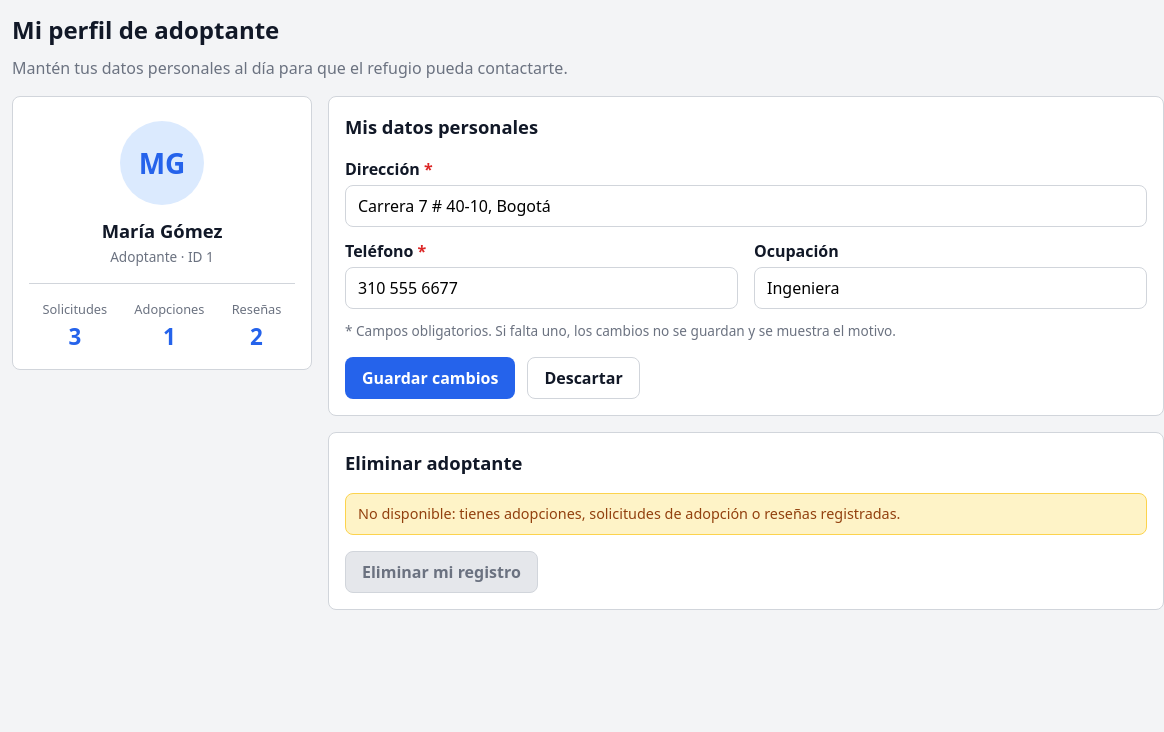
ProfilePage (HU12) › shows the reason of the back when the address is missing
Step 1. Clear the field labelled "Dirección *" → (746, 206), box [345,185,1147,227]
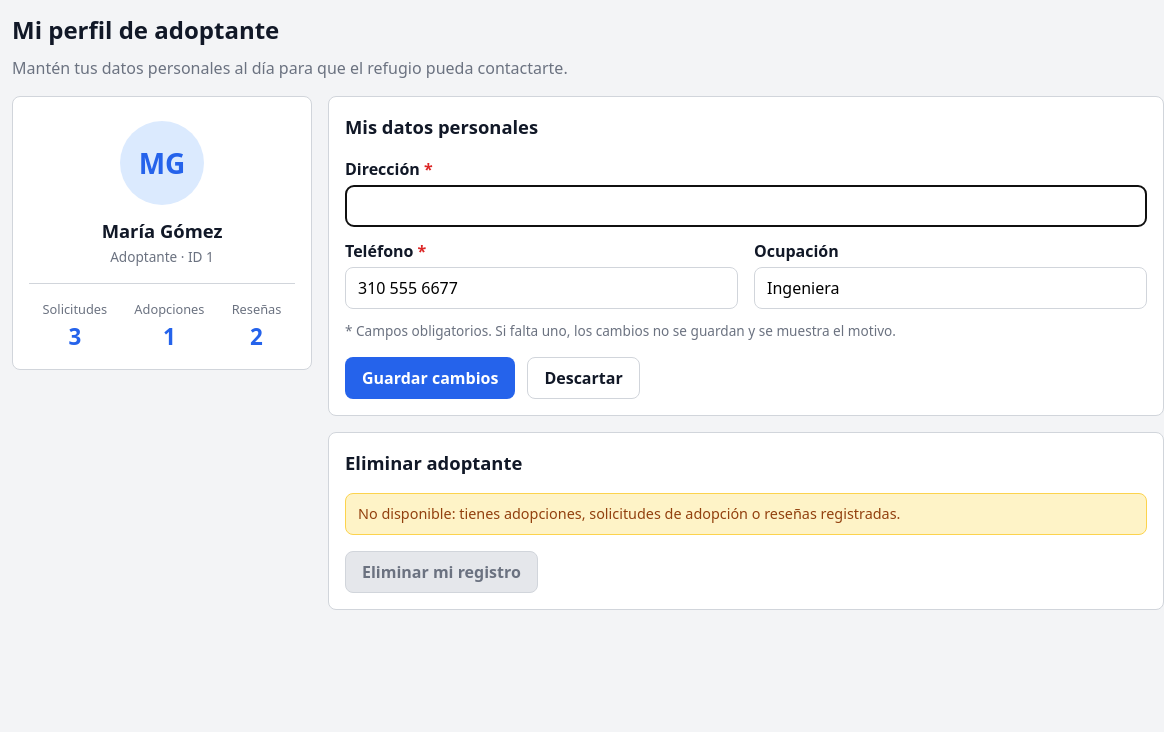
Step 2. Click the button "Guardar cambios" → click(430, 378), box [345,357,515,399]
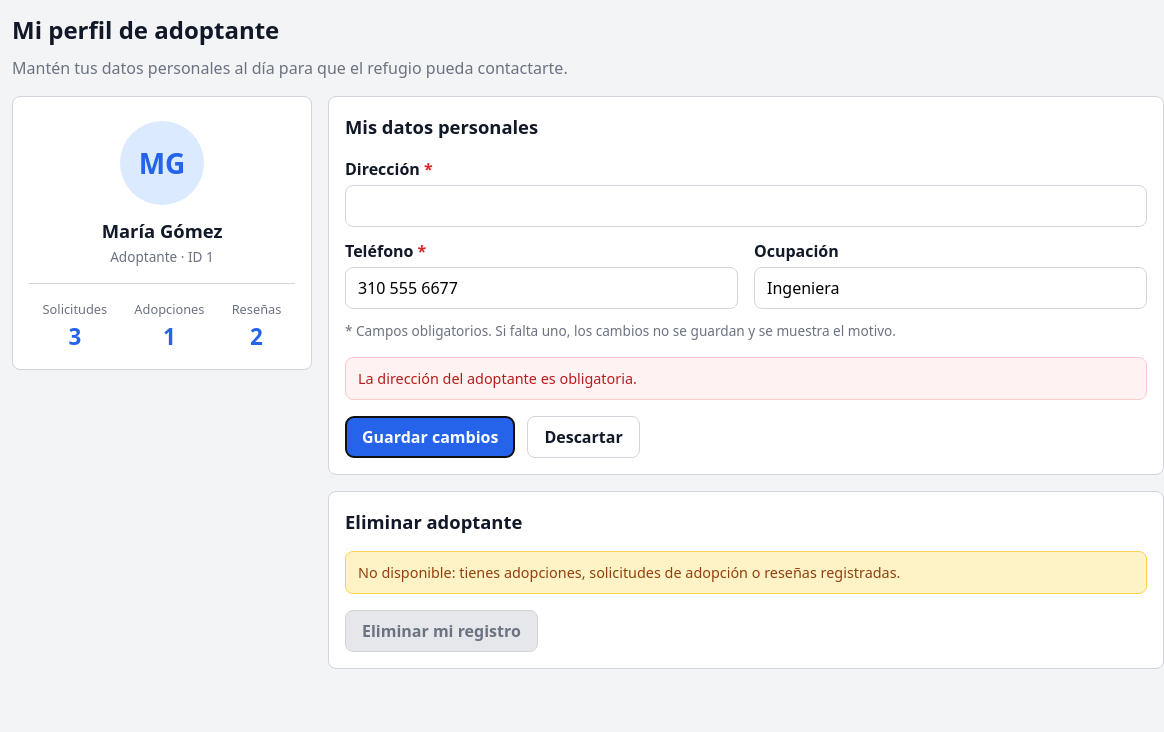
Result: the message reads "La dirección del adoptante es obligatoria." at [358,369,637,388]
